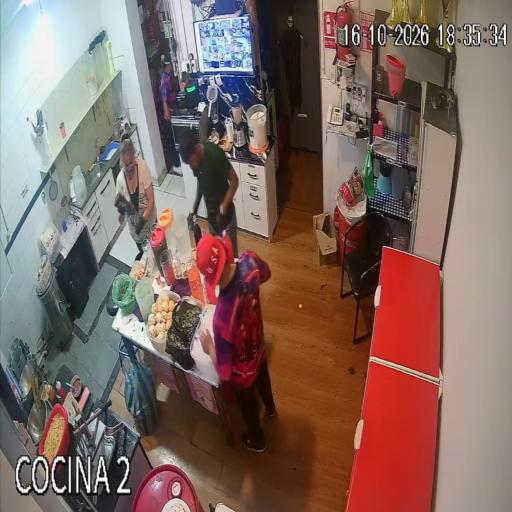Balde: (247, 104, 268, 153)
Cernidor: (206, 86, 218, 116)
Jarra1: (149, 227, 167, 274)
Jarra2: (158, 209, 175, 250)
Jarra3: (135, 278, 154, 320)
Jarra4: (172, 214, 191, 270)
Licuadora: (206, 86, 224, 136)
Licuadora2: (231, 102, 246, 147)
Microondas: (171, 109, 209, 148)
Persona1: (197, 234, 276, 452)
Persona2: (116, 138, 156, 244)
Persona3: (180, 132, 238, 250)
Persona5: (160, 53, 182, 175)
Taper: (130, 258, 150, 281)
Taper2: (146, 291, 179, 351)
Taper3: (166, 298, 201, 369)
Taper4: (190, 305, 219, 384)
